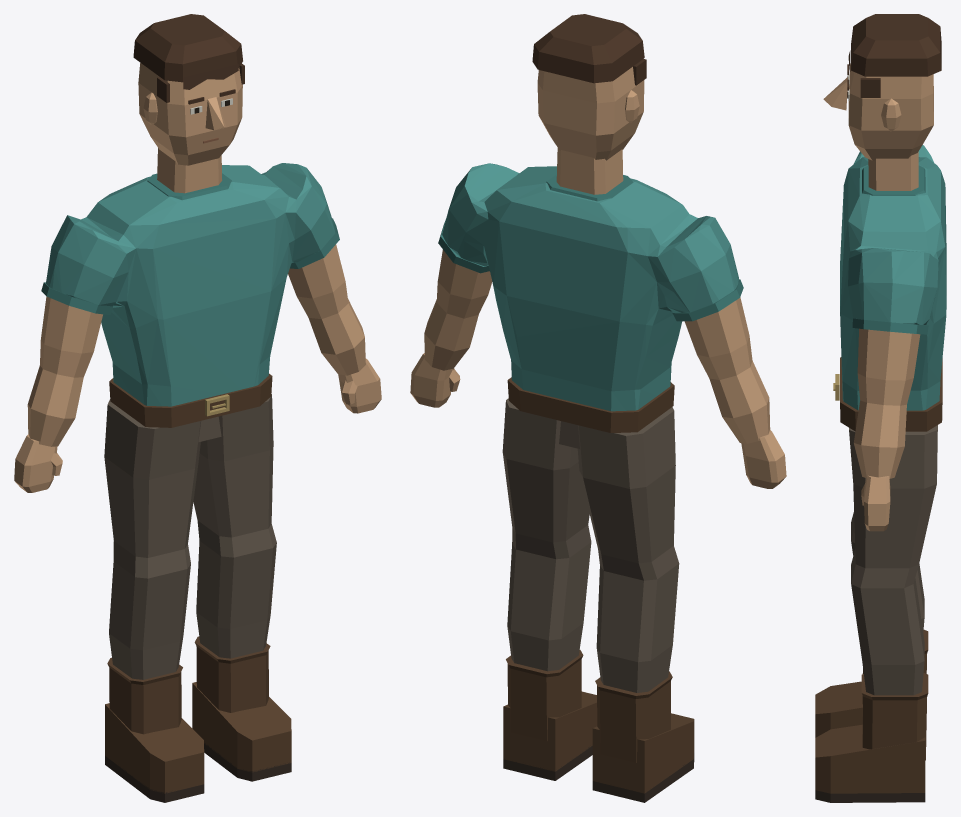
The model's file is Male.glb.
3 views of the same model, side by side, from view 1: azimuth 30°, elevation 25°; view 2: azimuth 150°, elevation 25°; view 3: azimuth 270°, elevation 25° (orthographic). The views are drawn at different scales.
Parts seen in each view (by area): view 1: Male_LowPoly; view 2: Male_LowPoly; view 3: Male_LowPoly.
Boxes of the visible parts, x1,y1,x2,y2 form: Male_LowPoly: (14,14,381,802); Male_LowPoly: (410,14,786,802); Male_LowPoly: (815,14,946,802).
Size of the model in its own units: 0.988 by 1.91 by 0.3079.
